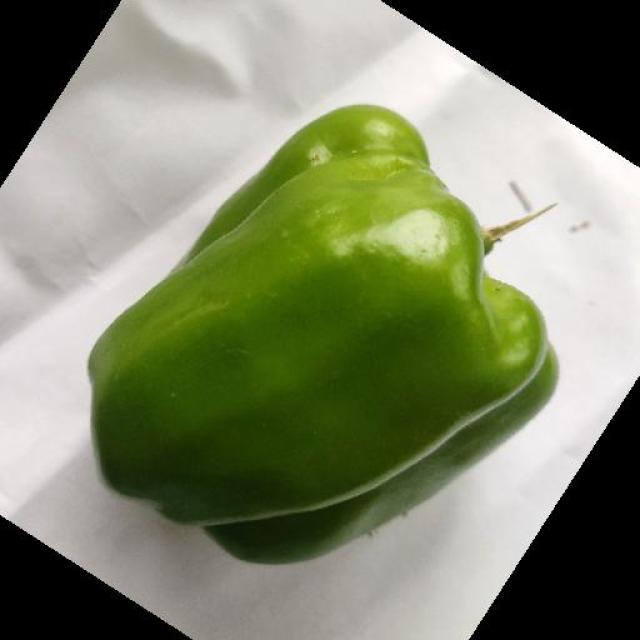Fresh_Capsicum: (107, 90, 556, 558)
